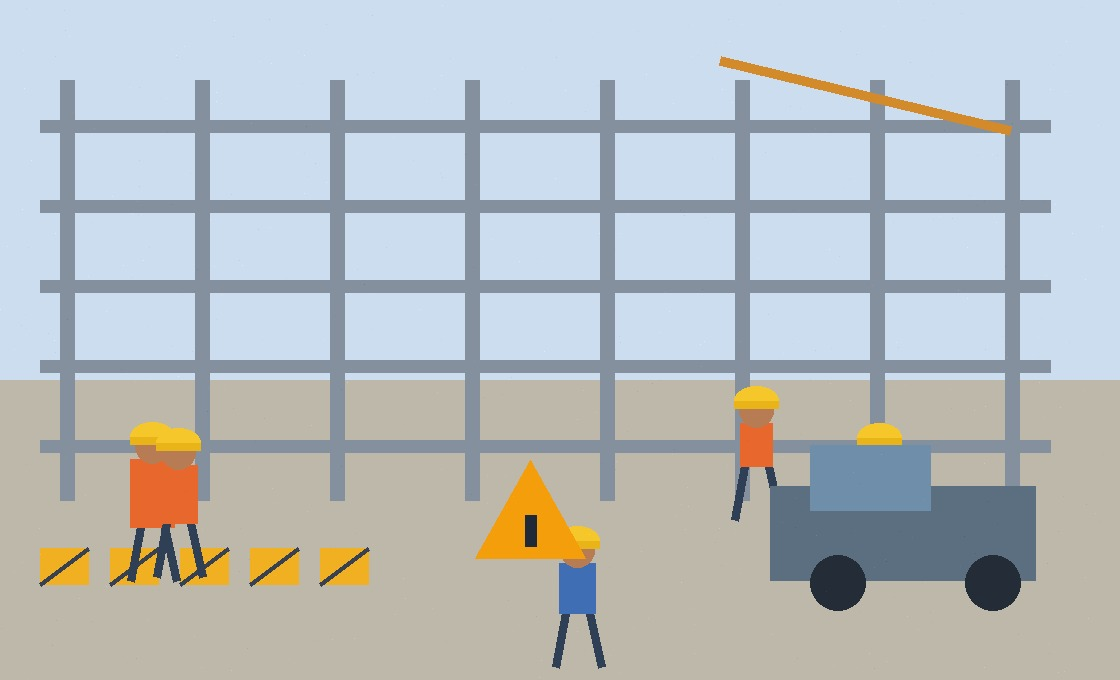helmet: (208, 350, 250, 384)
person: (193, 360, 255, 530)
vehicle: (770, 445, 1035, 595)
vest: (183, 395, 255, 483)
